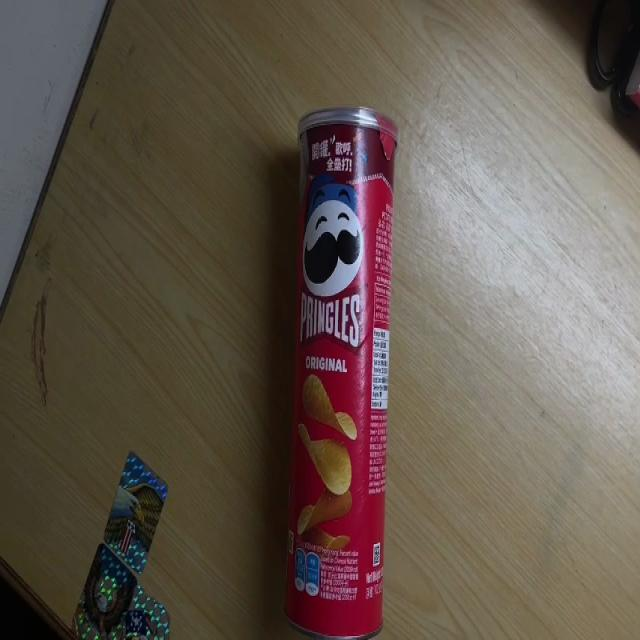Pringles: (287, 105, 398, 640)
